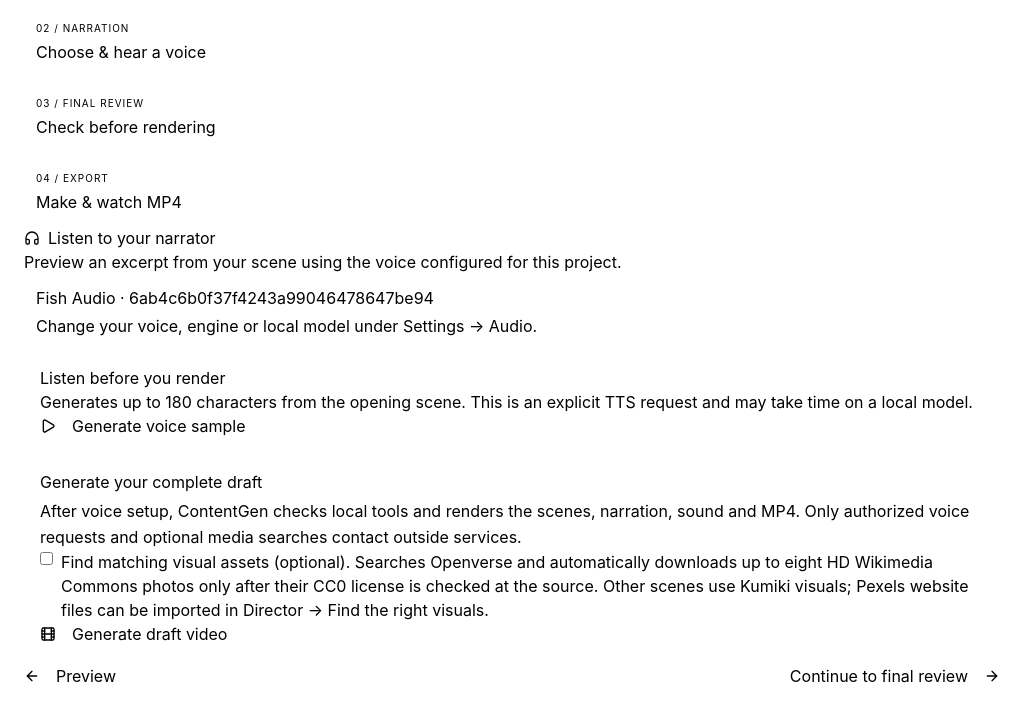
sends the seeded primary and explicit render authorization only after the draft action
(page scrolled)
Check: the element named "Selected narrator" is shown, box [36, 288, 537, 336]
Click the button "Generate draft video" at (134, 634), box [40, 622, 228, 646]
(page scrolled)
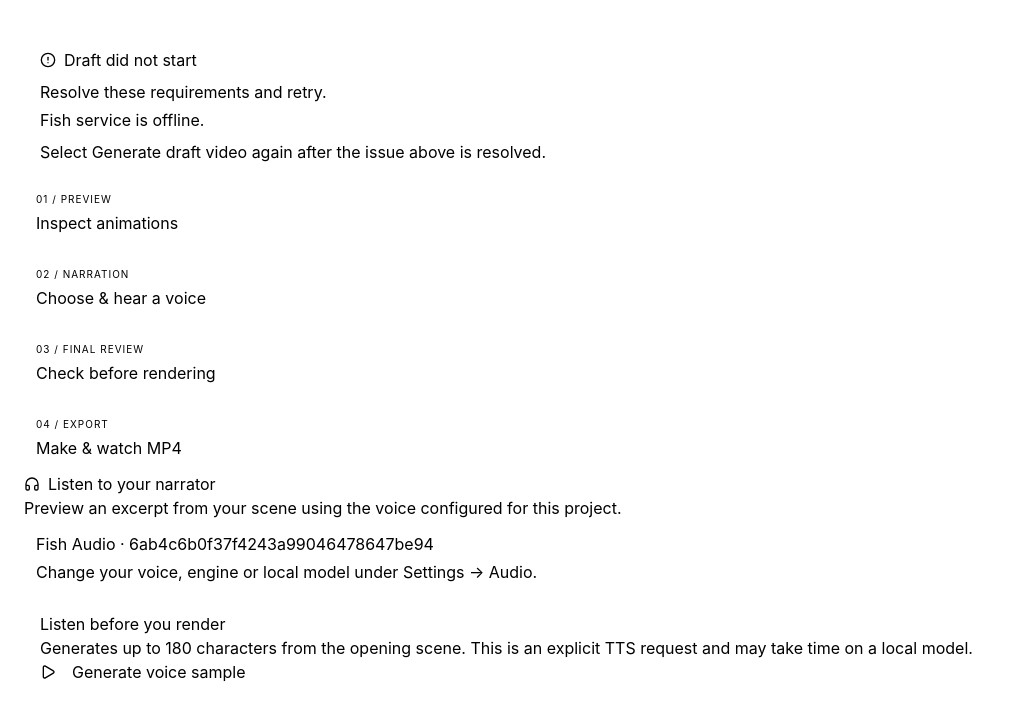
Check: the text "Fish service is offline." is shown, box [40, 110, 204, 130]
